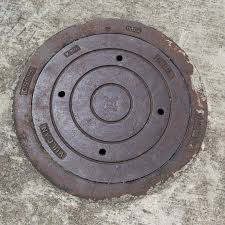manhole: (8, 8, 215, 211)
